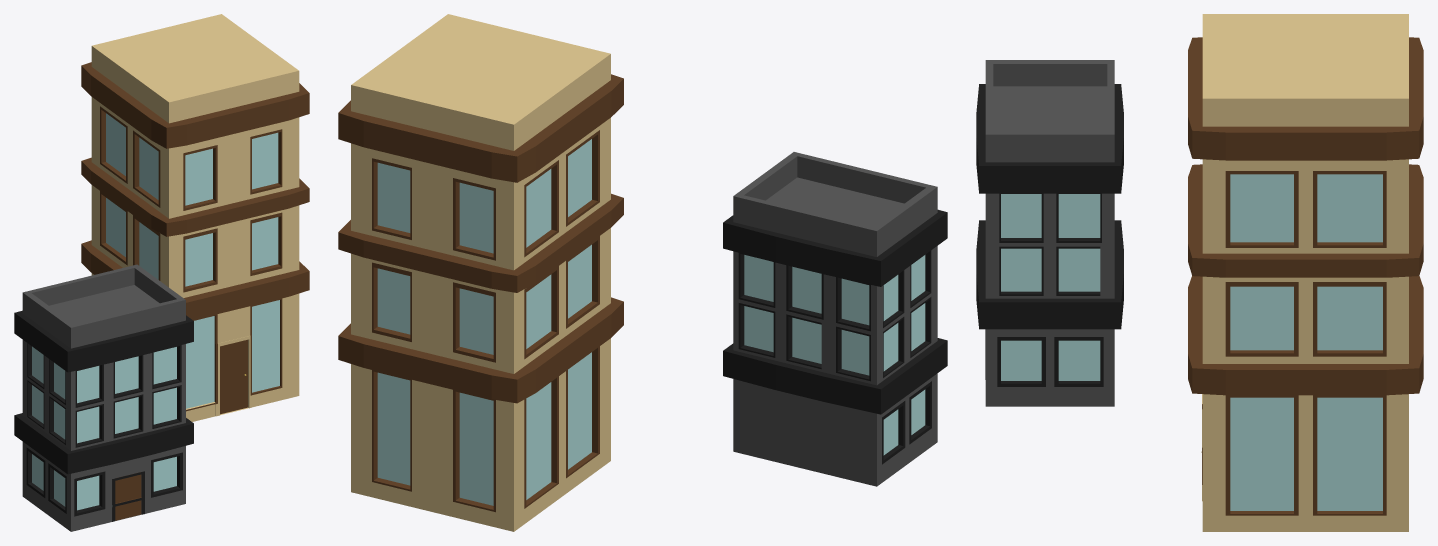
The model's file is edificios.fbx.
The picture shows the model from 3 angles, left to right: view 1: azimuth 30°, elevation 25°; view 2: azimuth 150°, elevation 25°; view 3: azimuth 270°, elevation 25°; orthographic projection. The views are drawn at different scales.
Parts seen in each view (by area): view 1: Cube.001, Cube; view 2: Cube.001, Cube; view 3: Cube.001, Cube.
Part boxes in pixels (<box>): Cube.001: <box>81,14,309,421</box>; Cube: <box>14,264,193,531</box>; Cube.001: <box>338,14,623,531</box>; Cube: <box>723,152,947,486</box>; Cube.001: <box>1188,14,1423,531</box>; Cube: <box>976,60,1123,406</box>.
Bounding box in the file's own units: 8333 × 8006 × 7464.
